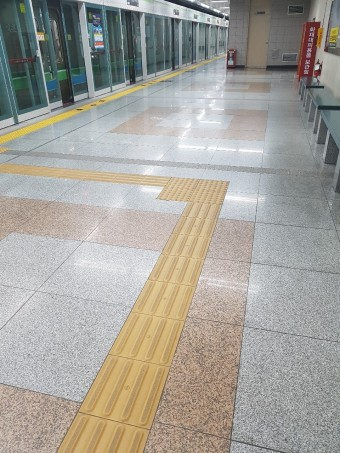guideBlock: (90, 355, 156, 422), (59, 419, 149, 453), (117, 314, 179, 356), (135, 280, 195, 323), (156, 257, 205, 287), (163, 235, 208, 258), (173, 218, 214, 240), (184, 201, 218, 221)
warningBlock: (172, 177, 205, 197), (192, 190, 224, 204), (165, 186, 191, 199), (199, 180, 227, 192)
